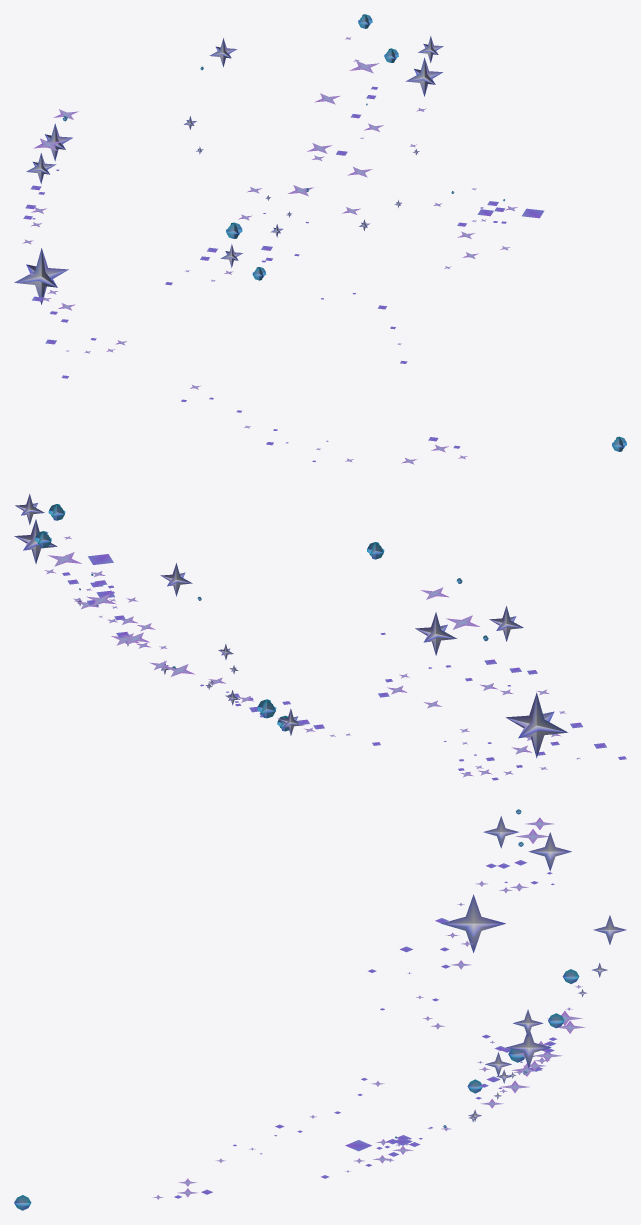
Rendered from space-stars-star-cluster_v13.glb.
3 renders of one model, top to bottom at view 1: azimuth 30°, elevation 25°; view 2: azimuth 150°, elevation 25°; view 3: azimuth 270°, elevation 25°, orthographic. The views are drawn at different scales.
Parts seen in each view (by area): view 1: Star Cluster_v13; view 2: Star Cluster_v13; view 3: Star Cluster_v13.
Part boxes in pixels (box(x1,y1,x2,y2)): Star Cluster_v13: box(14, 14, 626, 464); Star Cluster_v13: box(14, 494, 626, 780); Star Cluster_v13: box(14, 809, 626, 1210).
Bounding box in the file's own units: 0.4629 × 0.2567 × 0.5.
